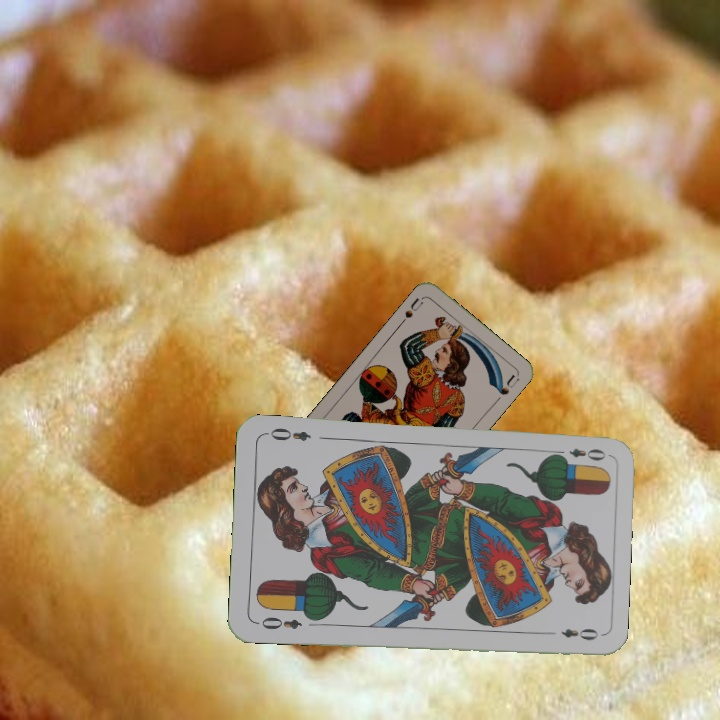EO: (550, 444, 609, 463), (252, 612, 304, 632)
SU: (396, 293, 426, 327)
